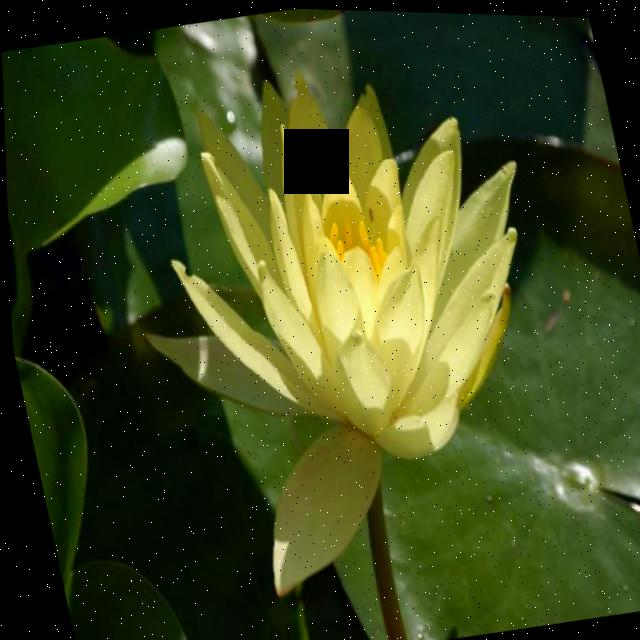rose: (66, 4, 616, 640)
